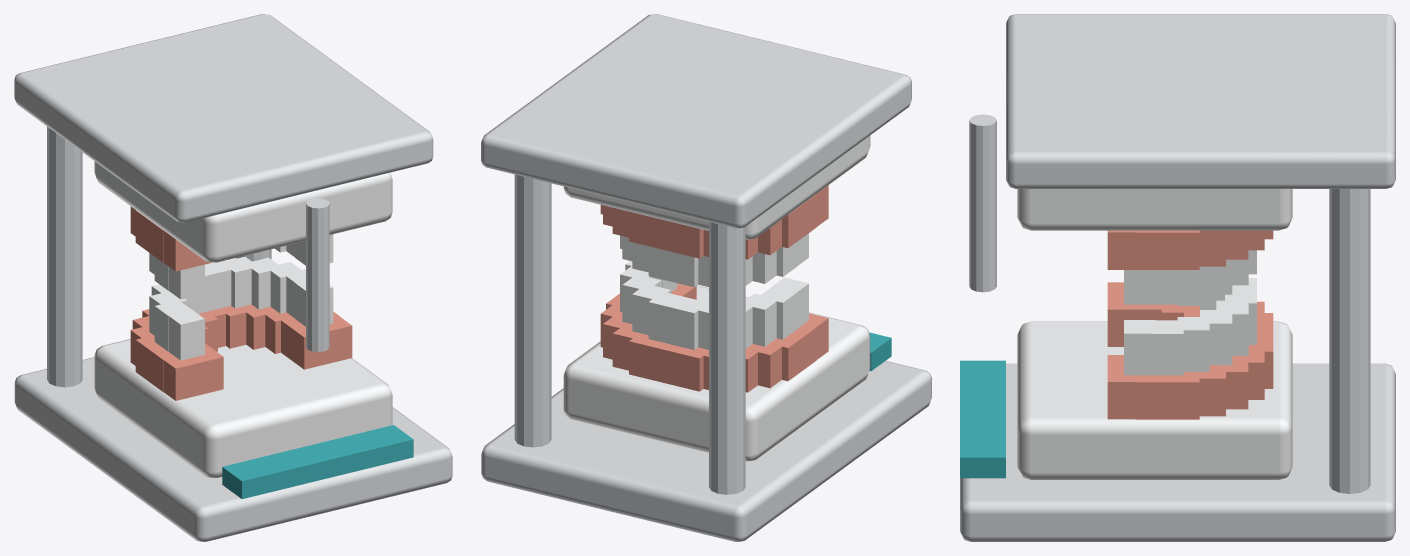
File: jaw_model.glb
The picture shows the model from 3 angles, left to right: view 1: azimuth 30°, elevation 25°; view 2: azimuth 150°, elevation 25°; view 3: azimuth 270°, elevation 25°; orthographic projection. The views are drawn at different scales.
Parts seen in each view (by area): view 1: articulator-with-model; view 2: articulator-with-model; view 3: articulator-with-model.
Part boxes in pixels (left/top/right/bottom): articulator-with-model: left=14, top=14, right=452, bottom=541; articulator-with-model: left=481, top=14, right=931, bottom=541; articulator-with-model: left=960, top=14, right=1395, bottom=541.
Bounding box in the file's own units: 0.15 × 0.188 × 0.19.
